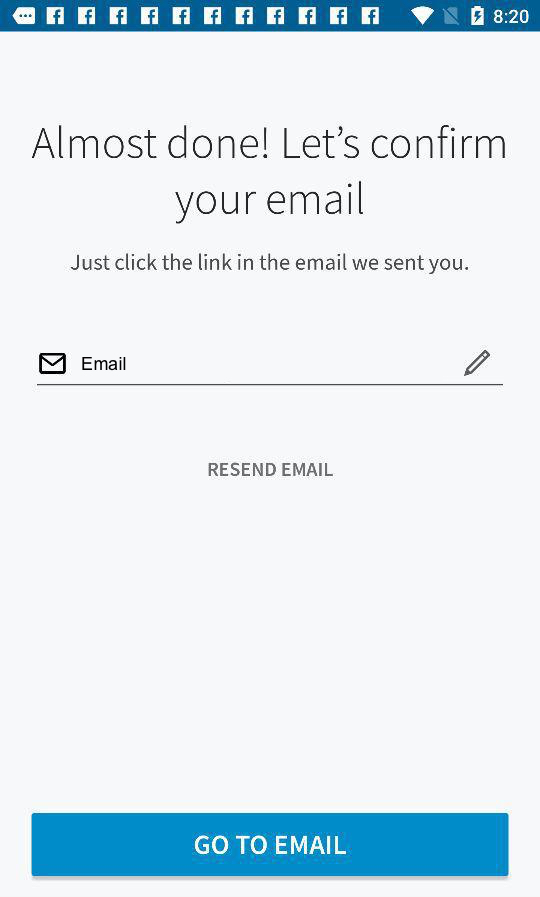EditText: (37, 350, 504, 387)
Text: (31, 124, 507, 226), (70, 252, 470, 277), (208, 462, 334, 477), (83, 357, 127, 371)
TextButton: (32, 813, 509, 877)
UpperTaskBar: (1, 1, 540, 33)
